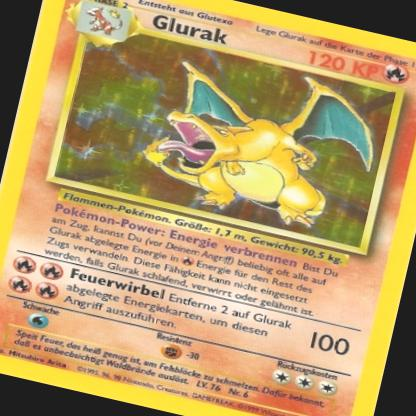Charizard: (130, 42, 392, 245)
